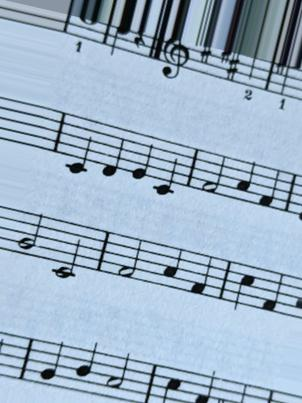note: (62, 107, 94, 178), (151, 134, 181, 202), (37, 333, 68, 393), (130, 127, 156, 197), (259, 258, 286, 320), (73, 338, 100, 398), (100, 118, 125, 182), (230, 256, 256, 314), (257, 157, 283, 214), (187, 247, 214, 301), (235, 150, 258, 211), (161, 239, 186, 293), (157, 359, 181, 402)
